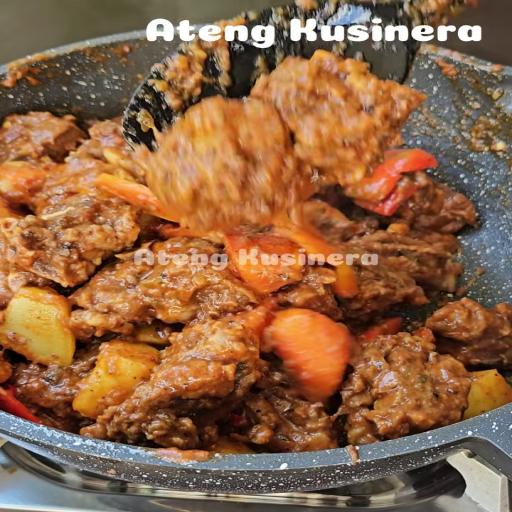pork caldereta: (0, 261, 511, 427)
